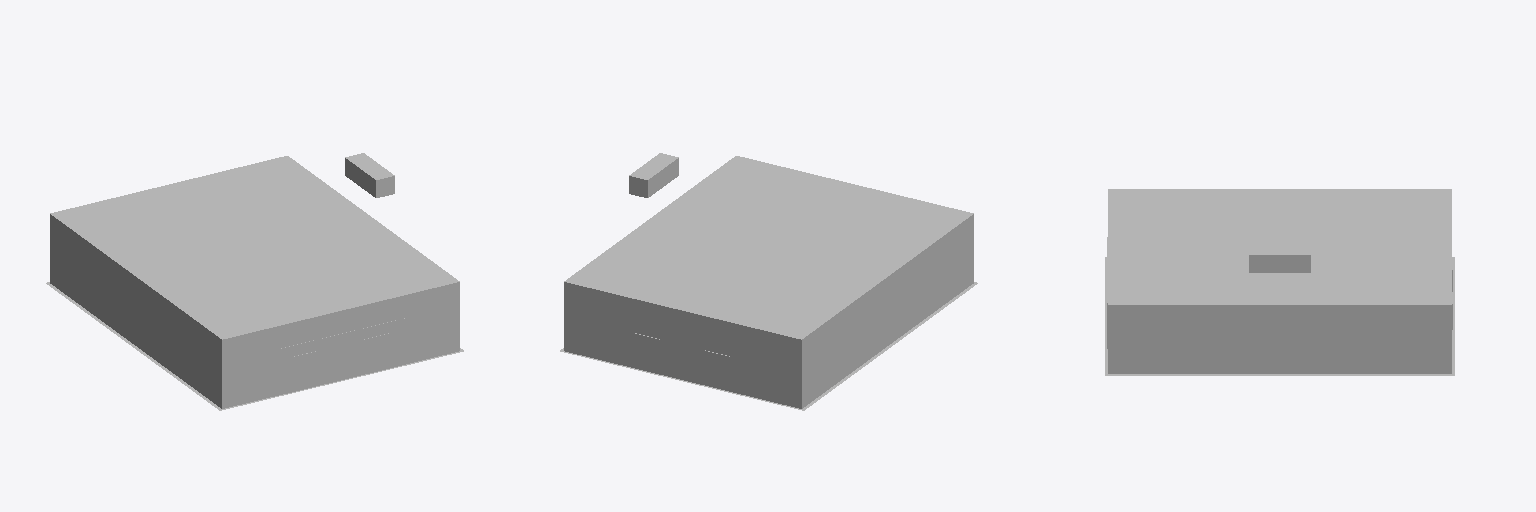
Rendered from ArtGallery.obj.
3 views of the same model, side by side, from view 1: azimuth 30°, elevation 25°; view 2: azimuth 150°, elevation 25°; view 3: azimuth 270°, elevation 25° (orthographic).
Visible parts, largest first — view 1: Boole.2, Cube, Cube_0, Cube.1, Plane, Cube.1_1, Cube.1_0; view 2: Boole.2, Cube, Cube.1, Plane, Cube.1_5, Cube.1_4; view 3: Boole.2, Cube, Cube.1, Plane.
Part boxes in pixels (bbox=[...]): Boole.2: bbox=[50, 156, 459, 408]; Cube: bbox=[50, 215, 221, 408]; Cube_0: bbox=[274, 318, 407, 396]; Cube.1: bbox=[345, 153, 394, 197]; Plane: bbox=[46, 282, 463, 410]; Cube.1_1: bbox=[364, 333, 388, 365]; Cube.1_0: bbox=[294, 351, 318, 382]; Boole.2: bbox=[564, 156, 973, 408]; Cube: bbox=[802, 215, 973, 406]; Cube.1: bbox=[629, 153, 678, 197]; Plane: bbox=[560, 282, 977, 410]; Cube.1_5: bbox=[635, 333, 659, 365]; Cube.1_4: bbox=[705, 350, 729, 382]; Boole.2: bbox=[1108, 189, 1451, 373]; Cube: bbox=[1108, 305, 1451, 373]; Cube.1: bbox=[1249, 245, 1310, 272]; Plane: bbox=[1105, 257, 1454, 375].
Bounding box in the file's own units: 586 × 279 × 719.